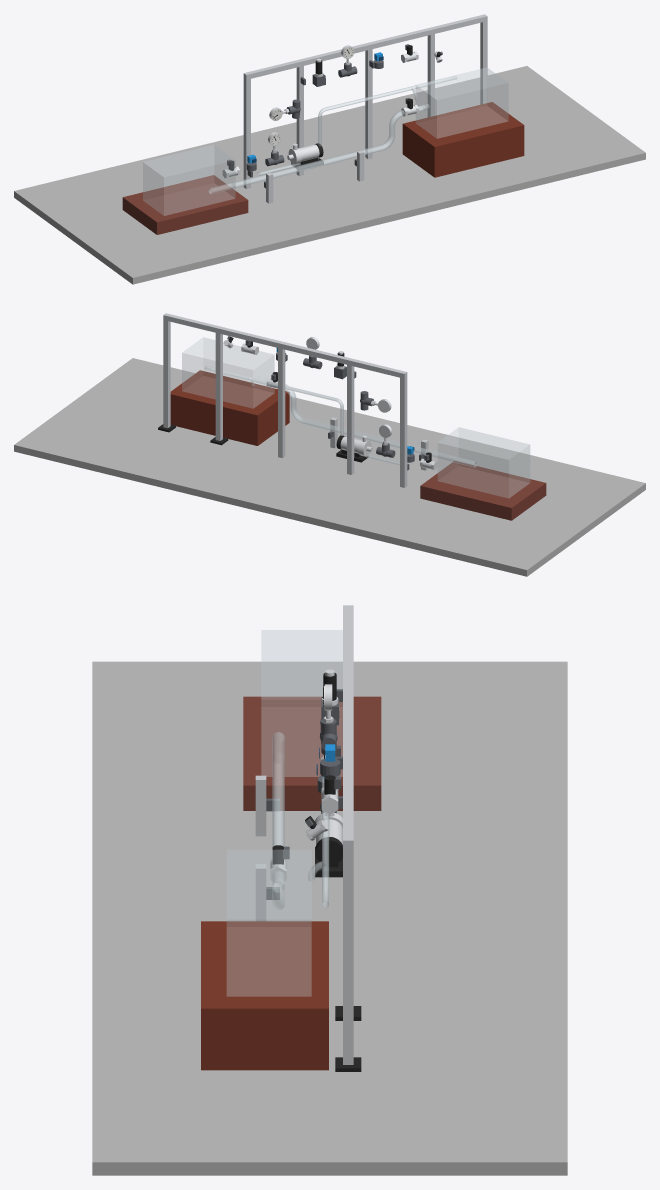
Rendered from pipeline.fbx.
3 views of the same model, one above another, from view 1: azimuth 30°, elevation 25°; view 2: azimuth 150°, elevation 25°; view 3: azimuth 270°, elevation 25° (orthographic). The views are drawn at different scales.
Visible parts, largest first — view 1: Table.001, Table.004, Cube.002, Cube.001, Table.003, Frame_TopBeam.001, Cube, Cube.003, Frame_Post.005, Frame_Post.007, S2_Pump_Motor_Unit, Frame_Post.004 (+2 smaller); view 2: Table.001, Table.004, Cube.002, Table.003, Cube.001, Frame_TopBeam.001, Cube, Frame_Post.007, Frame_Post.005, Frame_Post.006, Frame_Post.004, Frame_Post.008 (+2 smaller); view 3: Table.001, Table.004, Cube.001, Table.003, Cube.002, Frame_TopBeam.001, Frame_Post.004, Cube, S2_Pump_Motor_Unit, Cube.003.
Part boxes in pixels (x1,y1,x2,y2): Table.001: [14, 66, 645, 284]; Table.004: [402, 102, 524, 177]; Cube.002: [143, 145, 235, 215]; Cube.001: [416, 67, 508, 138]; Table.003: [122, 175, 248, 234]; Frame_TopBeam.001: [243, 14, 487, 79]; Cube: [209, 103, 429, 194]; Cube.003: [257, 76, 456, 175]; Frame_Post.005: [365, 49, 372, 159]; Frame_Post.007: [243, 78, 250, 188]; S2_Pump_Motor_Unit: [287, 143, 323, 170]; Frame_Post.004: [480, 21, 487, 104]; Table.001: [14, 358, 645, 576]; Table.004: [170, 370, 289, 445]; Cube.002: [438, 427, 529, 498]; Table.003: [420, 461, 546, 520]; Cube.001: [182, 337, 274, 408]; Frame_TopBeam.001: [163, 313, 407, 378]; Cube: [256, 377, 476, 467]; Frame_Post.007: [400, 377, 407, 487]; Frame_Post.005: [278, 348, 285, 458]; Frame_Post.006: [347, 365, 354, 474]; Frame_Post.004: [163, 320, 170, 428]; Frame_Post.008: [215, 333, 222, 440]; Table.001: [92, 661, 567, 1175]; Table.004: [201, 921, 328, 1070]; Cube.001: [227, 850, 311, 996]; Table.003: [243, 696, 381, 810]; Cube.002: [261, 630, 342, 776]; Frame_TopBeam.001: [343, 605, 353, 850]; Frame_Post.004: [343, 850, 353, 1064]; Cube: [272, 732, 284, 910]; S2_Pump_Motor_Unit: [315, 812, 342, 877]; Cube.003: [308, 776, 329, 907].
Bounding box in the file's own units: 748 × 179 × 300.
